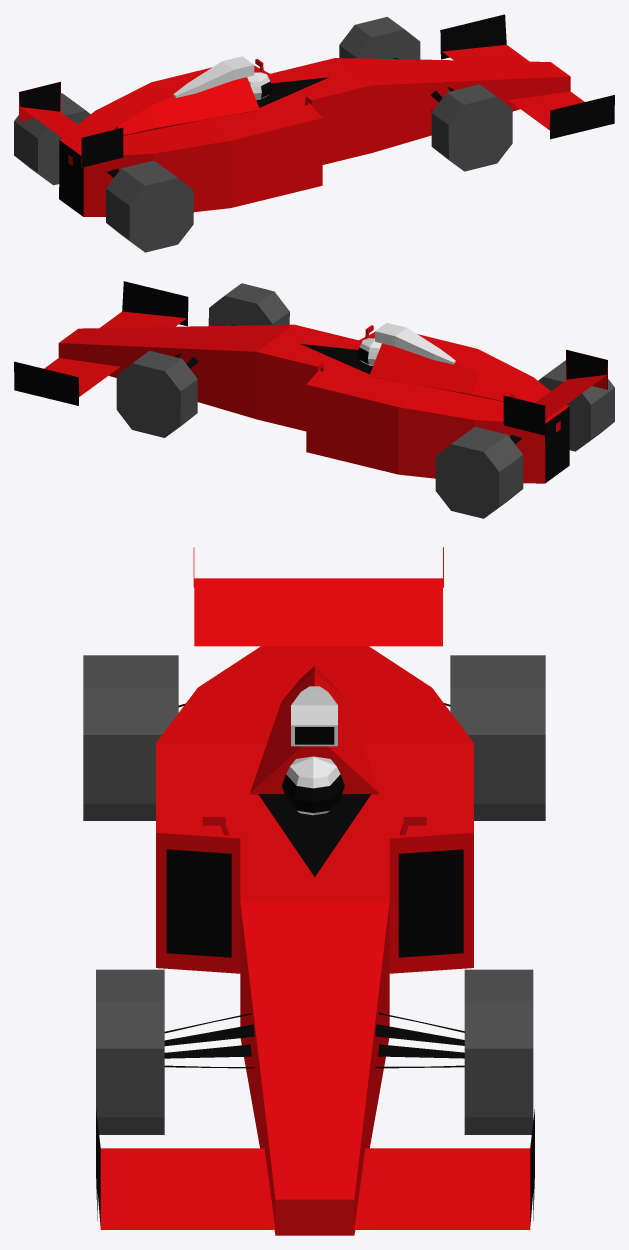
The model's file is f1-car.glb.
The picture shows the model from 3 angles, top to bottom: view 1: azimuth 30°, elevation 25°; view 2: azimuth 150°, elevation 25°; view 3: azimuth 270°, elevation 25°; orthographic projection. The views are drawn at different scales.
Parts seen in each view (by area): view 1: f1; view 2: f1; view 3: f1.
Boxes of the visible parts, <box> form: f1: <box>14,14,614,252</box>; f1: <box>14,281,614,518</box>; f1: <box>83,547,545,1235</box>.
Bounding box in the file's own units: 15.76 × 3.27 × 6.2.
